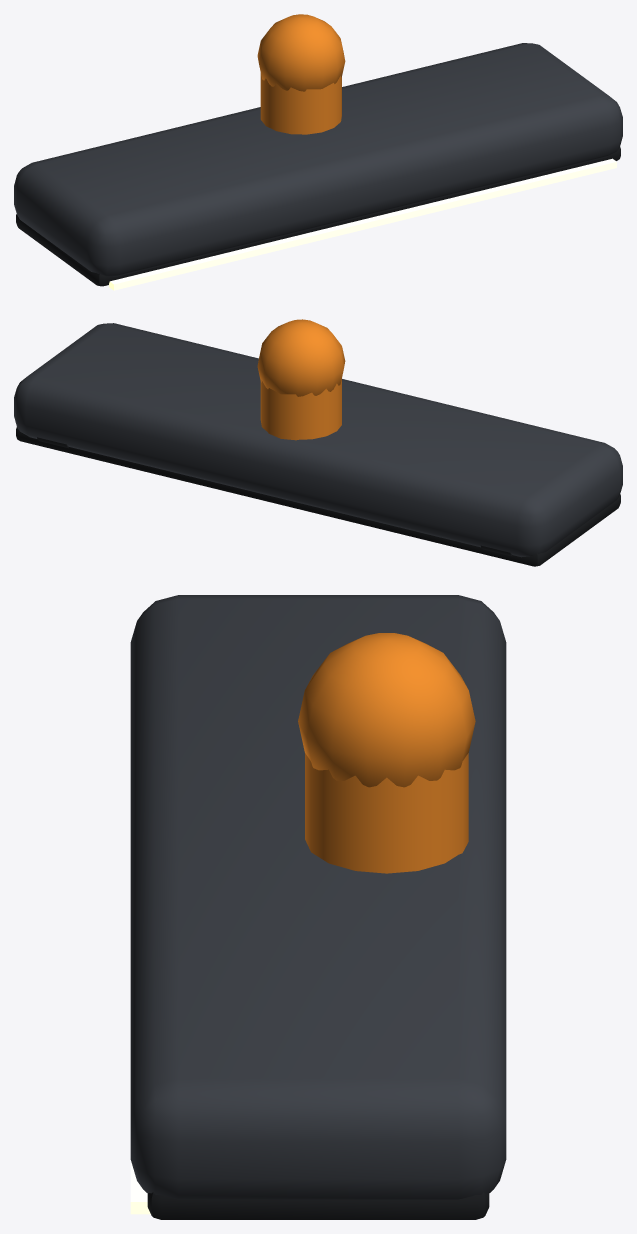
Rendered from vacuum_head.fbx.
3 views of the same model, one above another, from view 1: azimuth 30°, elevation 25°; view 2: azimuth 150°, elevation 25°; view 3: azimuth 270°, elevation 25° (orthographic). The views are drawn at different scales.
Visible parts, largest first — view 1: vacuum_head; view 2: vacuum_head; view 3: vacuum_head.
Part boxes in pixels (x1=…): vacuum_head: x1=14, y1=14, x2=622, y2=290; vacuum_head: x1=14, y1=319, x2=622, y2=566; vacuum_head: x1=130, y1=595, x2=506, y2=1219.
Size of the model in its own units: 0.36 by 0.106 by 0.11.
